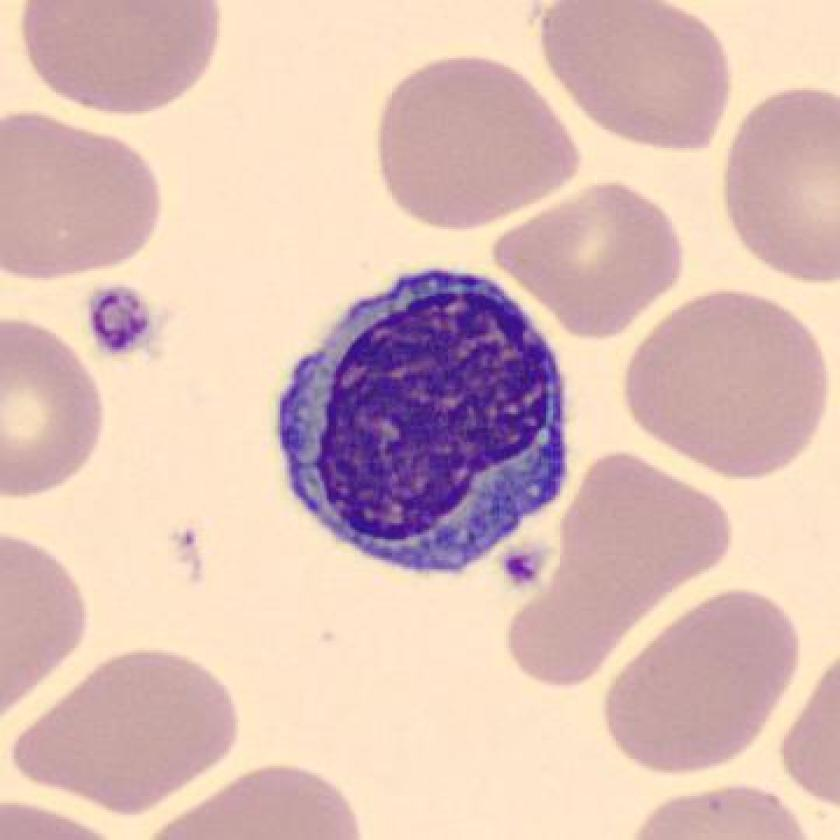lymphocyte: (258, 249, 598, 596)
